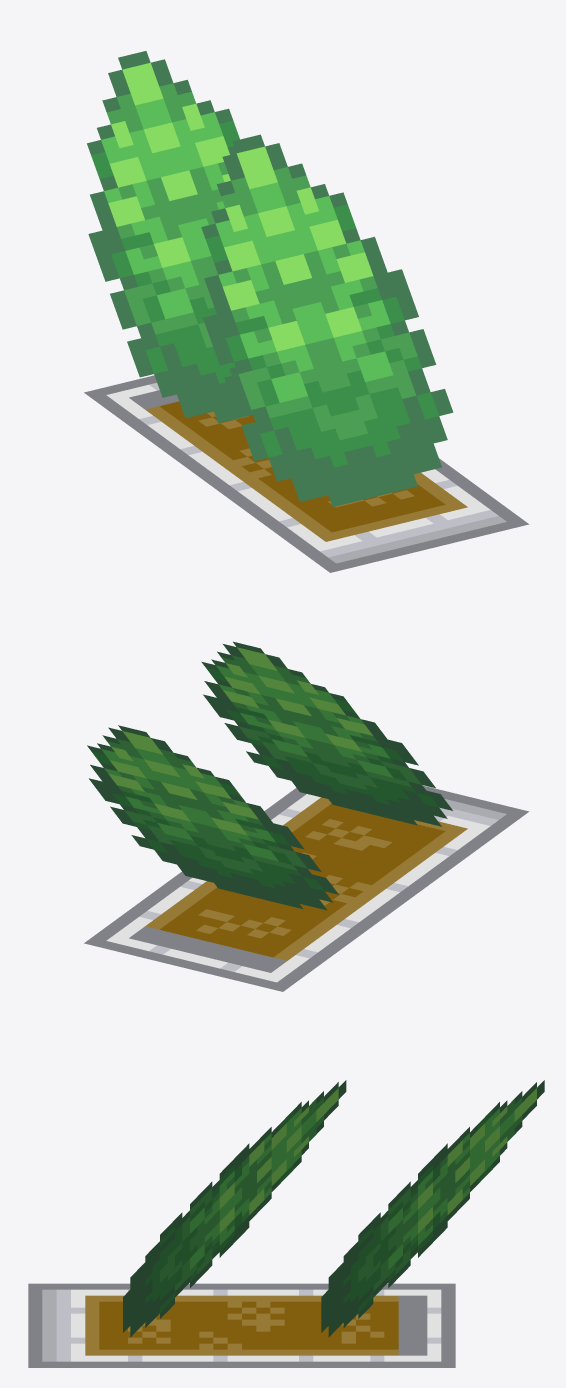
The picture shows the model from 3 angles, top to bottom: view 1: azimuth 30°, elevation 25°; view 2: azimuth 150°, elevation 25°; view 3: azimuth 270°, elevation 25°; orthographic projection. The views are drawn at different scales.
Visible parts, largest first — view 1: 00_polygon0; view 2: 00_polygon0; view 3: 00_polygon0.
Boxes of the visible parts, x1,y1,x2,y2 form: 00_polygon0: (84, 51, 529, 572); 00_polygon0: (84, 641, 529, 991); 00_polygon0: (28, 1080, 544, 1367).
Size of the model in its own units: 0.25 by 0.2993 by 0.59.
1 material, 1 textured.
